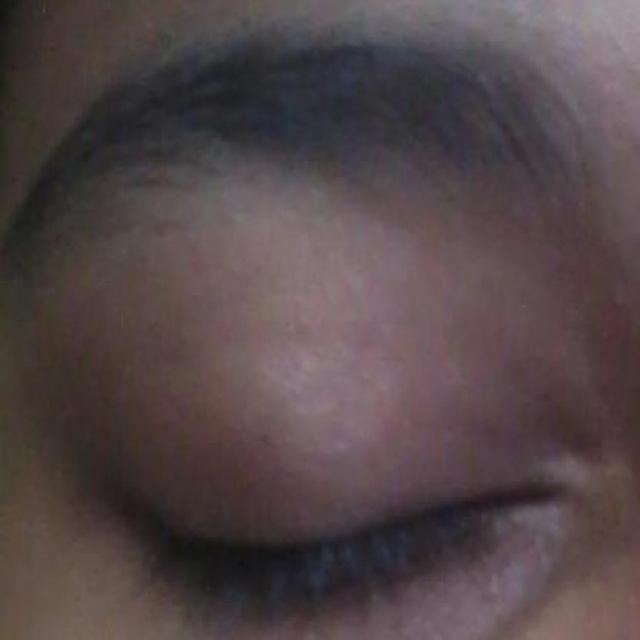drowsy: (79, 368, 573, 638)
